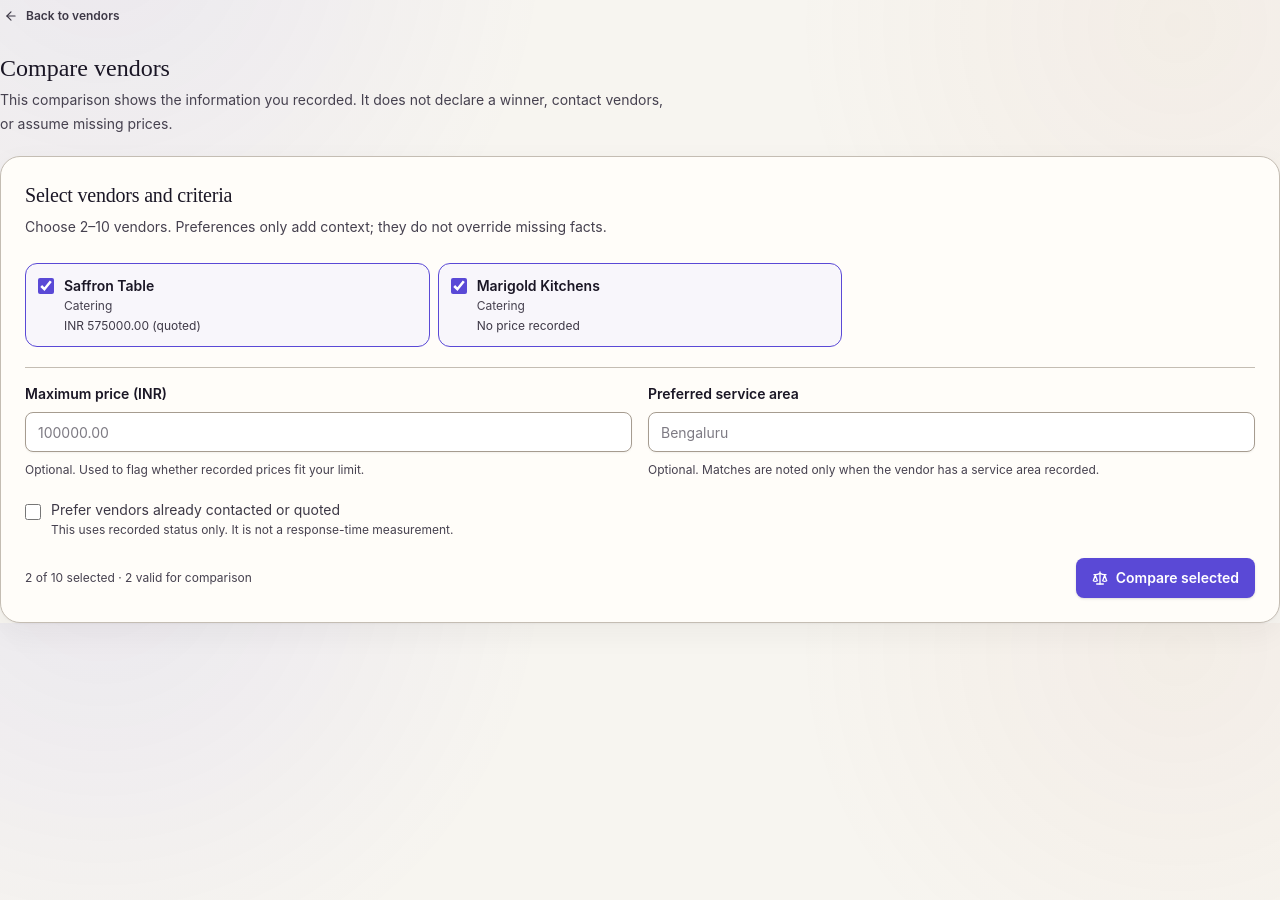
Test: vendor comparison page › validates the maximum price and renders a comparison
Expected: the heading "Compare vendors" is shown, [0,55,170,81]
Expected: the text "2 of 10 selected · 2 valid for comparison" is shown, [25,570,252,586]
Step 1. Type "not-a-price" into the field labelled "Maximum price (INR)" → (328, 432), box [25,412,632,452]
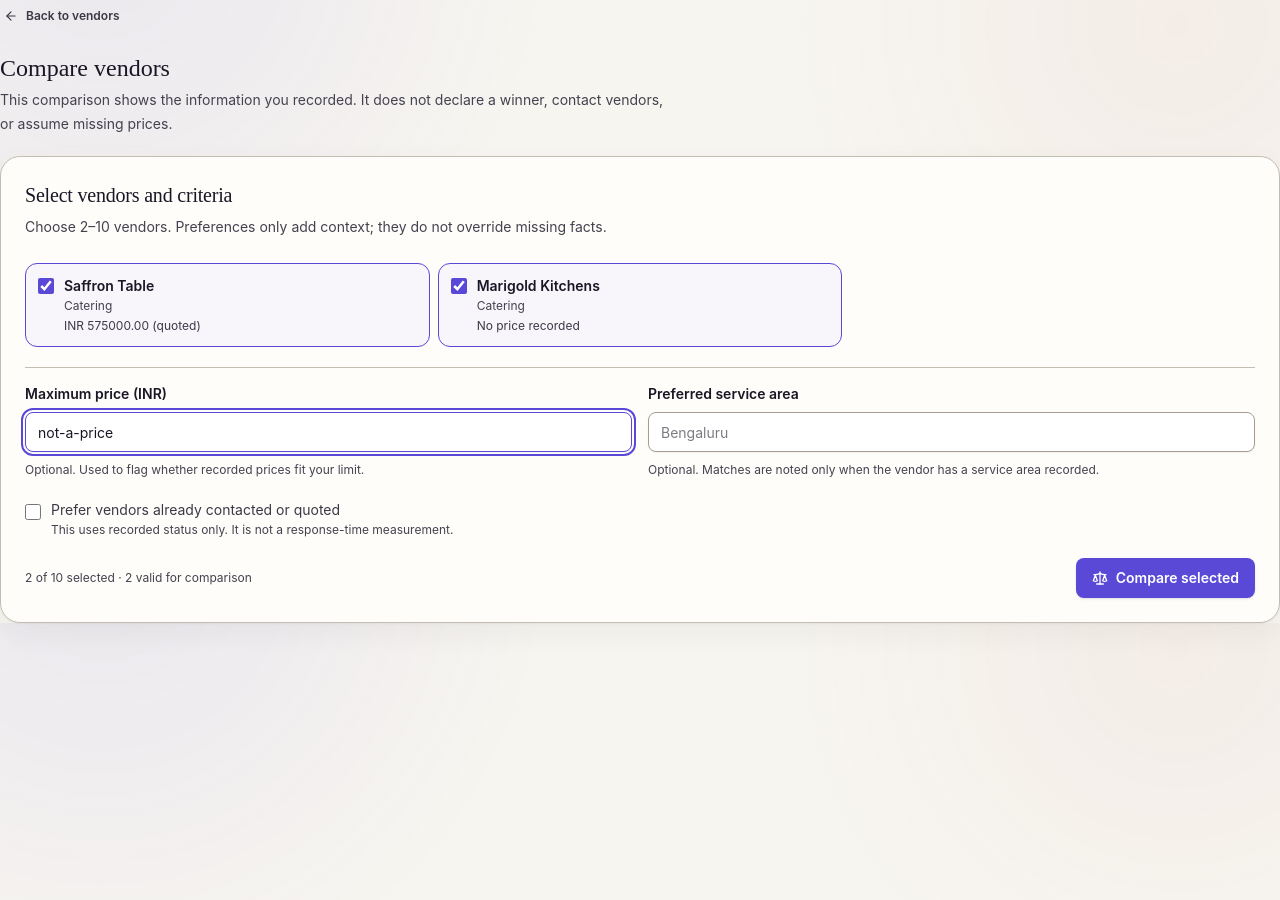
Step 2. Click the button "Compare selected" → (1165, 578), box [1076,558,1255,598]
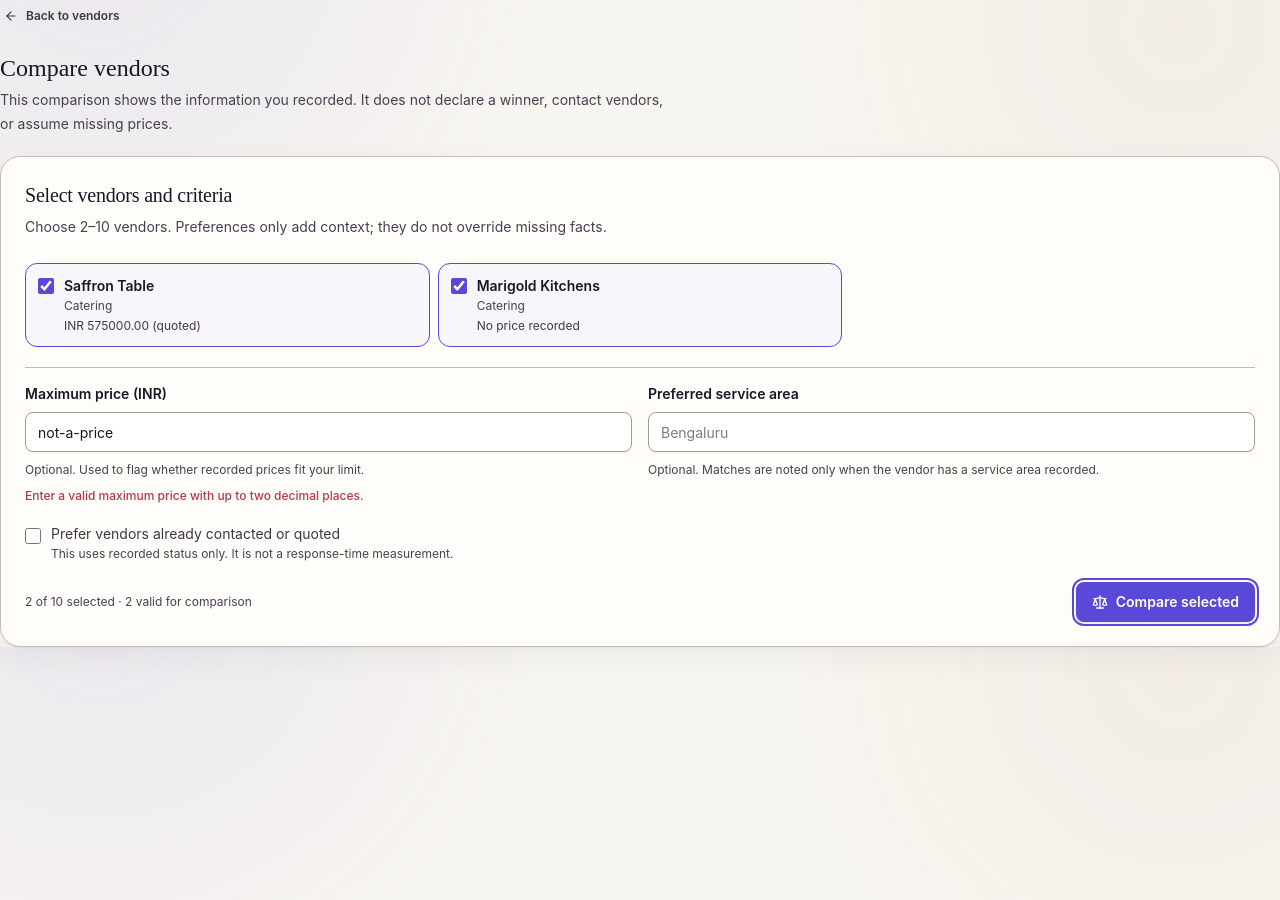
Expected: the text "Enter a valid maximum price with up to two decimal places." is shown, [25,488,364,503]
Step 3. Replace the text in the field labelled "Maximum price (INR)" with "600000" → (328, 432), box [25,412,632,452]
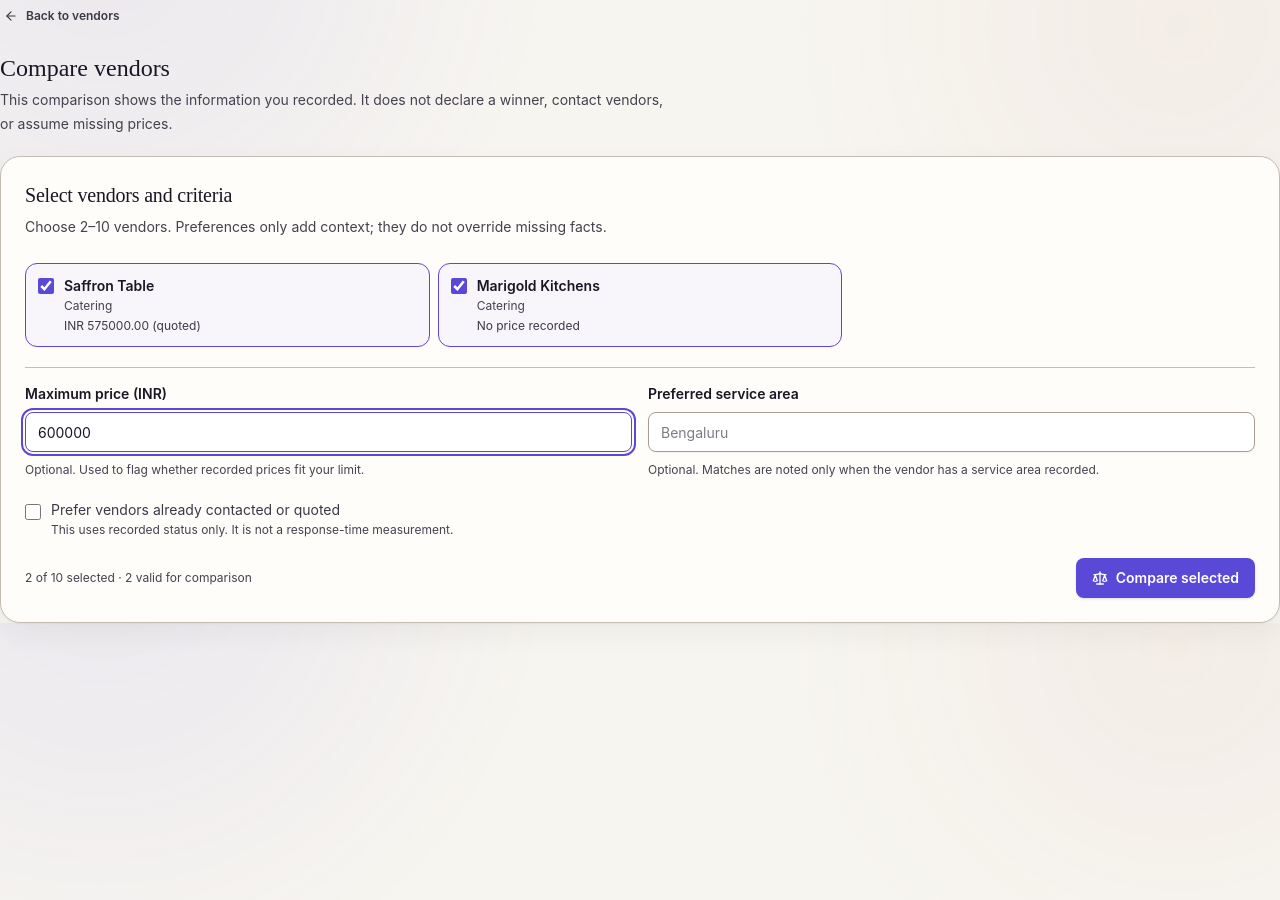
Step 4. Click the button "Compare selected" → (1165, 578), box [1076,558,1255,598]
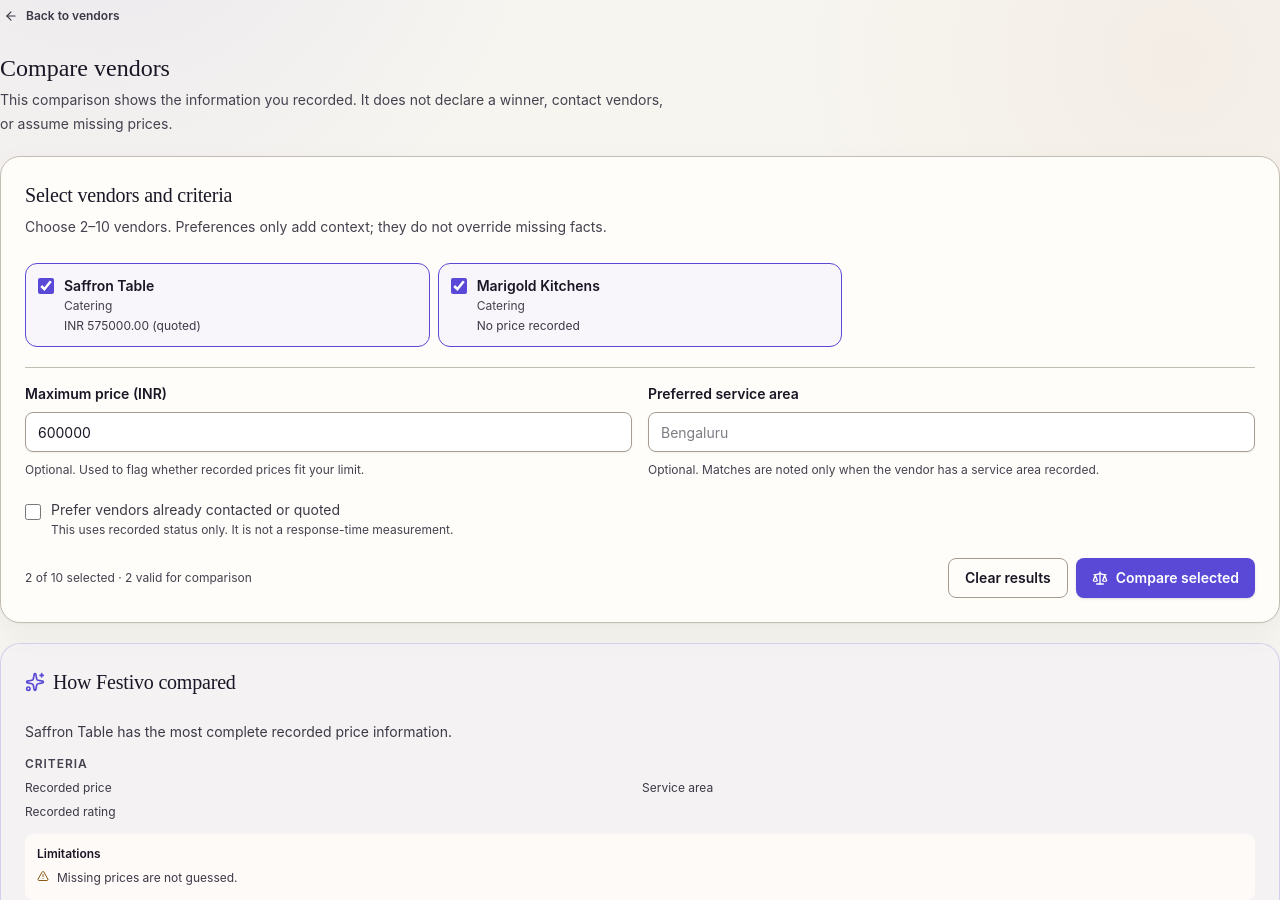
Expected: the heading "How Festivo compared" is shown, [53,671,236,693]
Expected: the text "Saffron Table has the most complete recorded price information." is shown, [25,723,452,740]
Expected: the list item "Missing prices are not guessed." is shown, [57,870,238,885]
